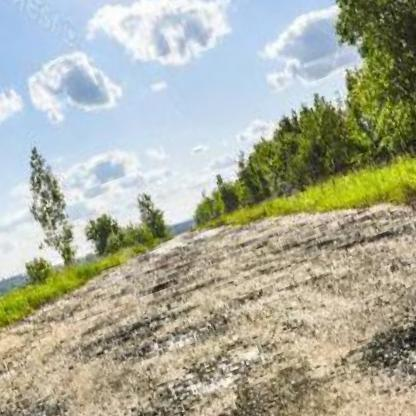pothole: (0, 373, 256, 416), (363, 272, 416, 414)
